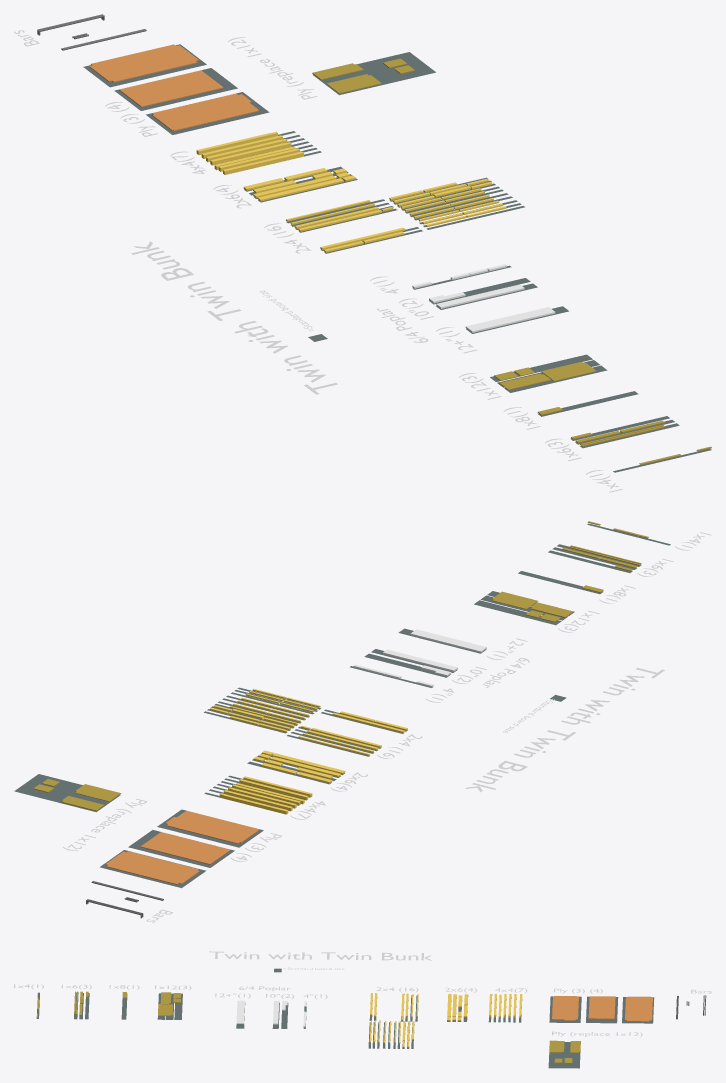
Rendered from bunks-wood-bunk-twins.glb.
3 renders of one model, top to bottom at view 1: azimuth 30°, elevation 25°; view 2: azimuth 150°, elevation 25°; view 3: azimuth 270°, elevation 25°, orthographic. The views are drawn at different scales.
Visible parts, largest first — view 1: upper-bottom-platform, upper-platform, lower-platform, Text.009, Plane.267, Plane.248, lower-rail-right-top; view 2: upper-bottom-platform, upper-platform, lower-platform, Text.009, Plane.267; view 3: upper-bottom-platform, Text.009, upper-platform, lower-platform, Plane.267, Plane.248, Plane.247, Plane.249.
Boxes of the visible parts, x1,y1,x2,y2 form: upper-bottom-platform: [89, 44, 198, 82]; upper-platform: [152, 93, 258, 130]; lower-platform: [119, 70, 223, 107]; Text.009: [131, 241, 337, 394]; Plane.267: [312, 52, 435, 95]; Plane.248: [114, 68, 237, 110]; lower-rail-right-top: [465, 307, 555, 332]; upper-bottom-platform: [105, 851, 199, 884]; upper-platform: [165, 811, 259, 843]; lower-platform: [140, 832, 230, 864]; Text.009: [465, 668, 664, 792]; Plane.267: [14, 774, 120, 812]; upper-bottom-platform: [625, 996, 652, 1021]; Text.009: [209, 951, 431, 960]; upper-platform: [552, 996, 578, 1020]; lower-platform: [588, 996, 615, 1018]; Plane.267: [548, 1042, 580, 1068]; Plane.248: [586, 996, 618, 1023]; Plane.247: [549, 996, 581, 1022]; Plane.249: [622, 997, 654, 1023].
Size of the model in its own units: 10.72 by 0.125 by 27.26.
